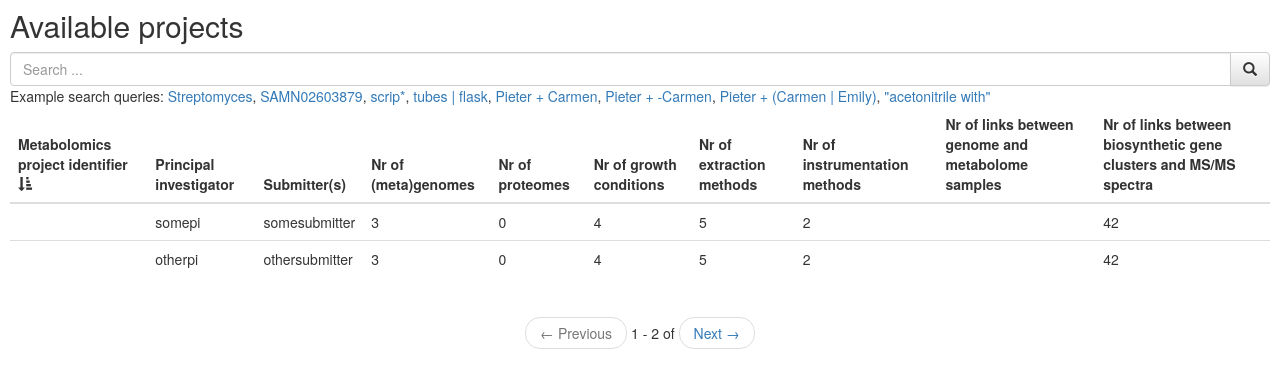
it: <Projects> › with 2 projects loaded › when `foobar` is put in search box › should have a clear button
This screenshot has width=1280, height=366.
Type "foobar" into the field with placeholder "Search ..." at (620, 69), box top-left (10, 52), bottom-right (1231, 86)
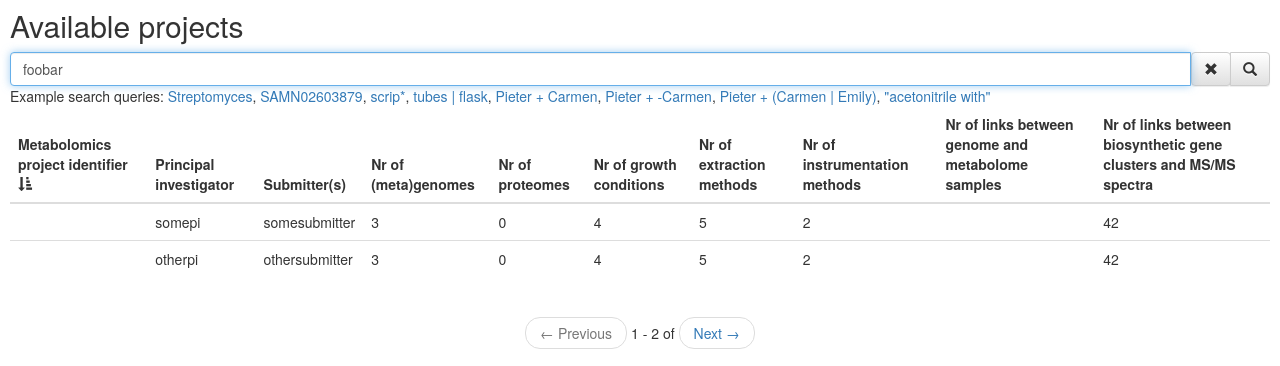
Expected: the button titled "Clear" is shown, top-left (1191, 52), bottom-right (1231, 86)
